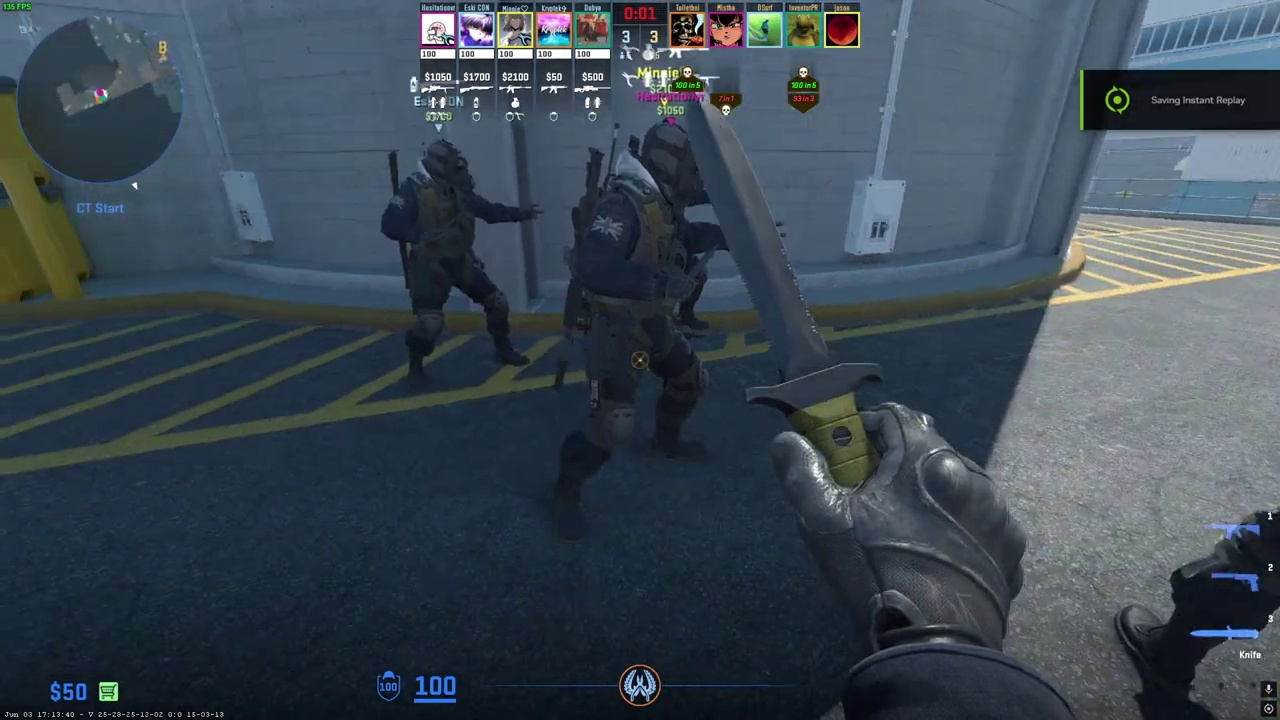CT: (552, 123, 720, 531), (391, 138, 515, 380)
